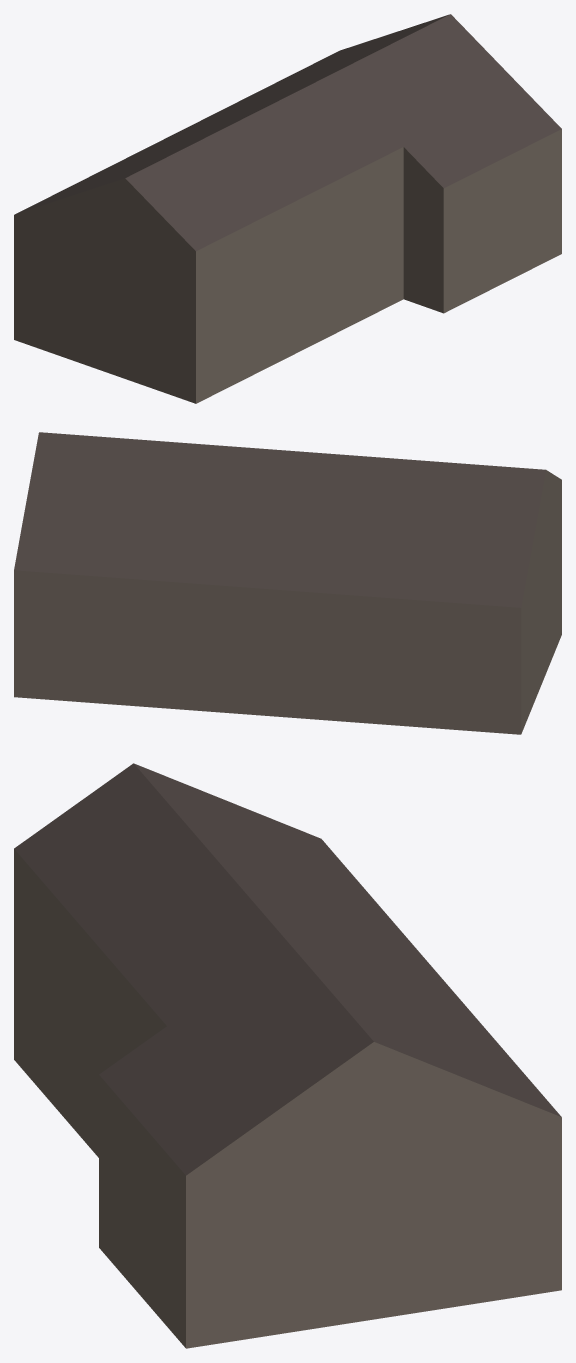
3 renders of one model, top to bottom at view 1: azimuth 30°, elevation 25°; view 2: azimuth 150°, elevation 25°; view 3: azimuth 270°, elevation 25°, orthographic. The views are drawn at different scales.
Visible parts, largest first — view 1: HP-w293398956; view 2: HP-w293398956; view 3: HP-w293398956.
Boxes of the visible parts, left/top/right/bottom form: HP-w293398956: left=14, top=14, right=561, bottom=403; HP-w293398956: left=14, top=432, right=561, bottom=734; HP-w293398956: left=14, top=763, right=561, bottom=1348.
Size of the model in its own units: 25.07 by 9.64 by 17.23.
